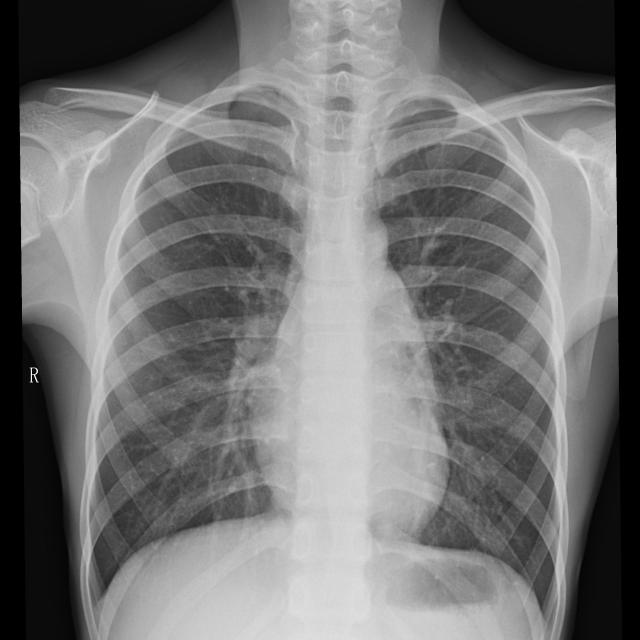no-pneumonia: (89, 79, 307, 601), (375, 89, 563, 621)
